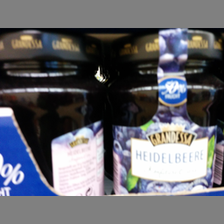jam: (111, 30, 218, 192), (1, 29, 104, 195)
